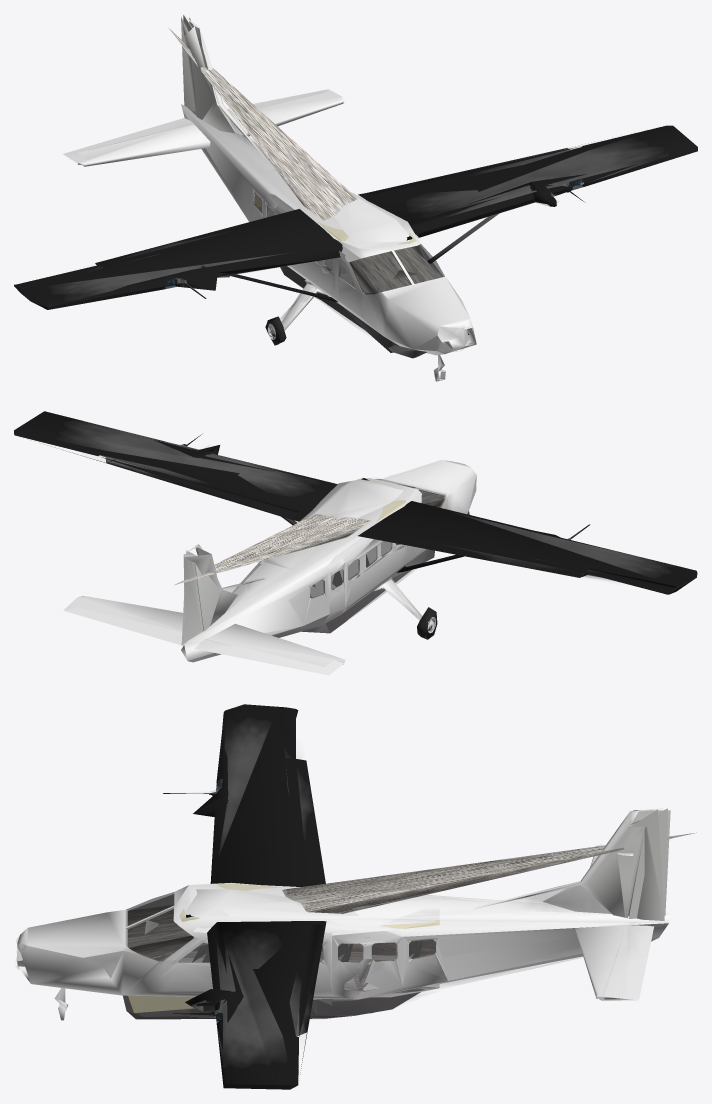
The picture shows the model from 3 angles, top to bottom: view 1: azimuth 30°, elevation 25°; view 2: azimuth 150°, elevation 25°; view 3: azimuth 270°, elevation 25°; orthographic projection. The views are drawn at different scales.
Parts seen in each view (by area): view 1: LOD1; view 2: LOD1; view 3: LOD1.
Boxes of the visible parts, <box> form: LOD1: <box>14,15,697,381</box>; LOD1: <box>14,411,697,675</box>; LOD1: <box>15,704,696,1089</box>.
Bounding box in the file's own units: 15.09 × 4.14 × 11.45.
Materials: 24 (12 with a texture image).
